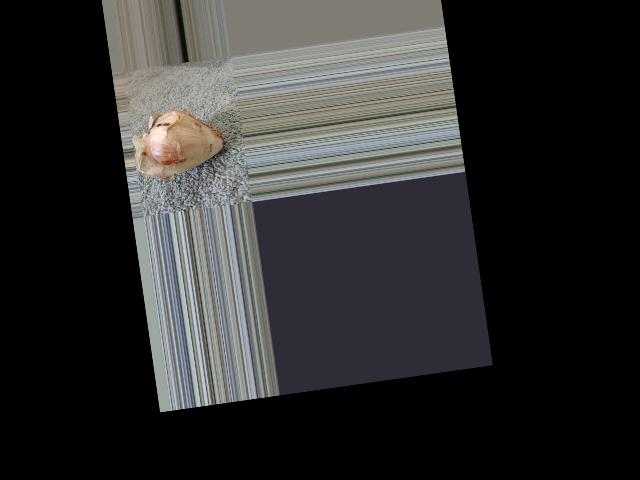onion: (147, 103, 228, 172)
